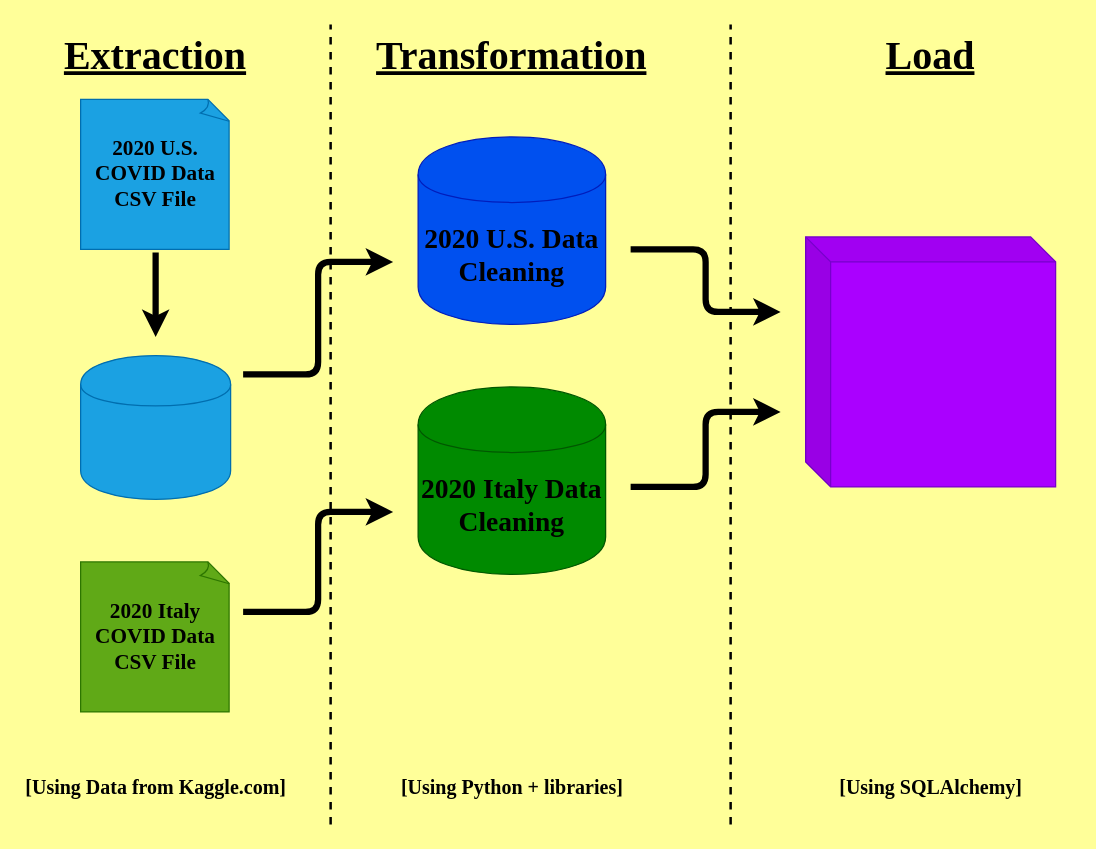
This 1096x849 diagram has some shape labels left out. The box of each missing label's shape, as (x1, y1, x2, y2) in pixels:
Converted to JSON: (79, 354, 231, 499)
New Database comparing U.S. & Italy COVID Data: (804, 236, 1056, 487)
